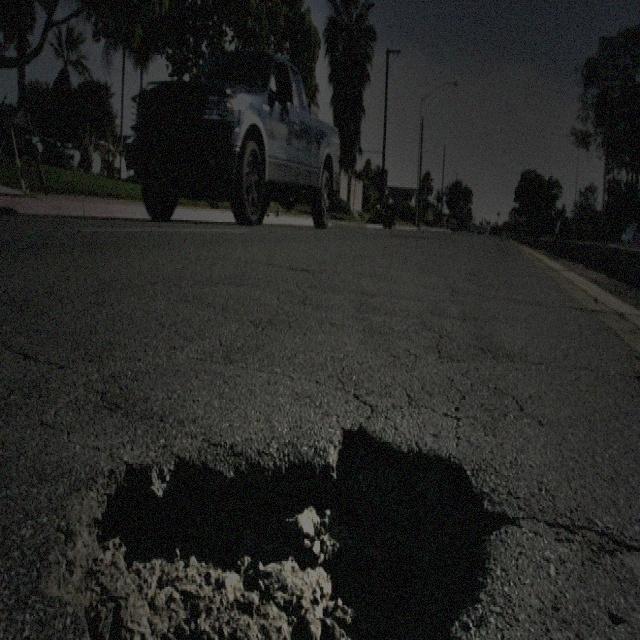pothole: (66, 414, 517, 634)
